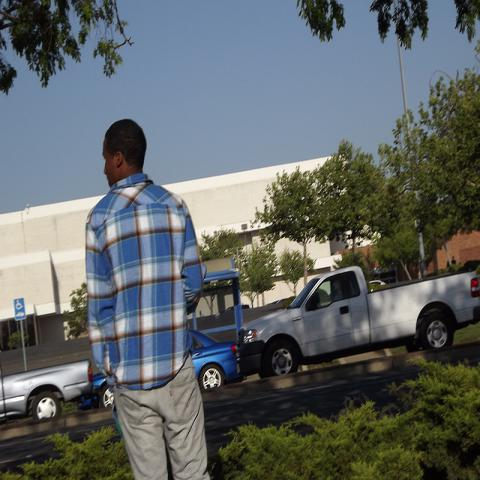car: (76, 330, 240, 414)
truck: (238, 264, 479, 378), (0, 360, 90, 426)
